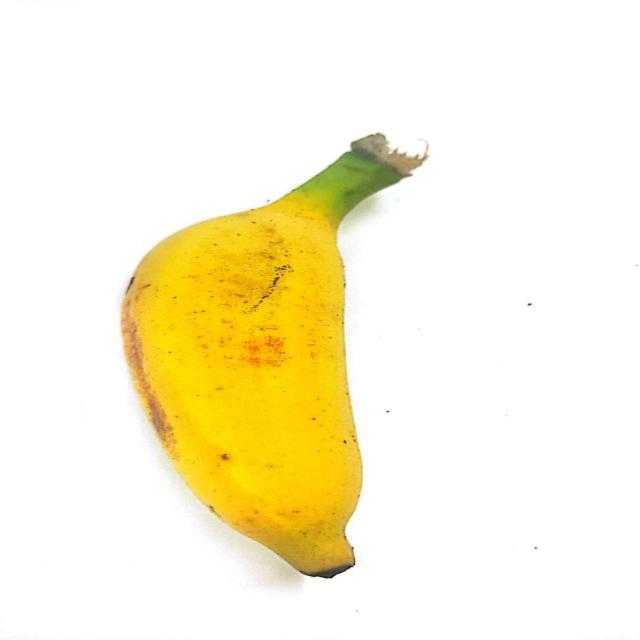fresh_banana: (123, 180, 374, 572)
